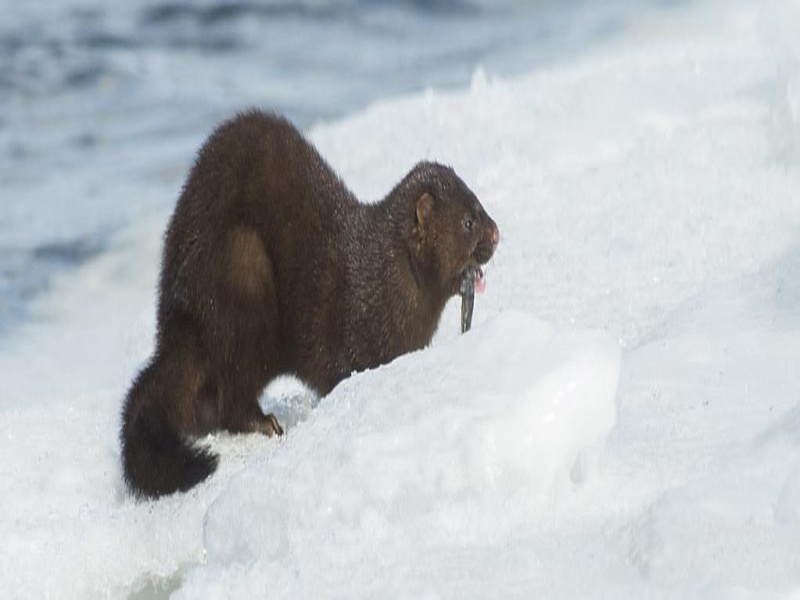minkish: (117, 104, 502, 498)
